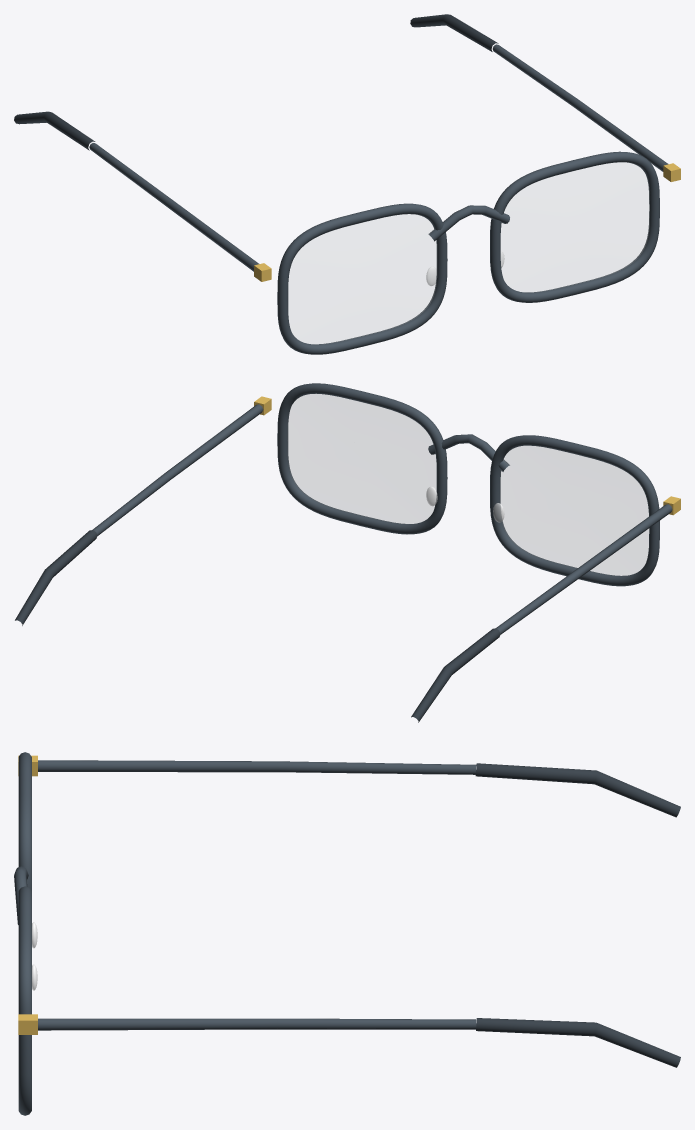
The picture shows the model from 3 angles, top to bottom: view 1: azimuth 30°, elevation 25°; view 2: azimuth 150°, elevation 25°; view 3: azimuth 270°, elevation 25°; orthographic projection. The views are drawn at different scales.
Parts seen in each view (by area): view 1: Lens_L, Lens_R, Rim_L, Rim_R, Temple_R, Temple_L, TempleTip_R, TempleTip_L, Bridge; view 2: Lens_R, Lens_L, Rim_R, Rim_L, Temple_L, Temple_R, TempleTip_L, TempleTip_R, Bridge; view 3: Temple_R, Temple_L, TempleTip_L, TempleTip_R, Rim_R, Rim_L.
Boxes of the visible parts, left/top/right/bottom form: Lens_L: left=288, top=214, right=436, bottom=344; Lens_R: left=501, top=162, right=649, bottom=292; Rim_L: left=277, top=203, right=447, bottom=354; Rim_R: left=490, top=151, right=659, bottom=302; Temple_R: left=492, top=44, right=668, bottom=171; Temple_L: left=89, top=143, right=258, bottom=271; TempleTip_R: left=410, top=14, right=498, bottom=51; TempleTip_L: left=14, top=111, right=95, bottom=150; Bridge: left=428, top=205, right=509, bottom=241; Lens_R: left=287, top=394, right=436, bottom=523; Lens_L: left=500, top=446, right=648, bottom=575; Rim_R: left=277, top=383, right=447, bottom=534; Rim_L: left=490, top=435, right=659, bottom=586; Temple_L: left=496, top=504, right=672, bottom=634; Temple_R: left=92, top=404, right=263, bottom=535; TempleTip_L: left=411, top=628, right=500, bottom=722; TempleTip_R: left=15, top=530, right=97, bottom=625; Bridge: left=428, top=434, right=509, bottom=471; Temple_R: left=38, top=1018, right=476, bottom=1030; Temple_L: left=38, top=760, right=476, bottom=774; TempleTip_L: left=475, top=763, right=680, bottom=817; TempleTip_R: left=476, top=1018, right=680, bottom=1067; Rim_R: left=18, top=886, right=31, bottom=1115; Rim_L: left=18, top=752, right=31, bottom=890.
Size of the model in its own units: 2.57 by 0.7839 by 2.73.
